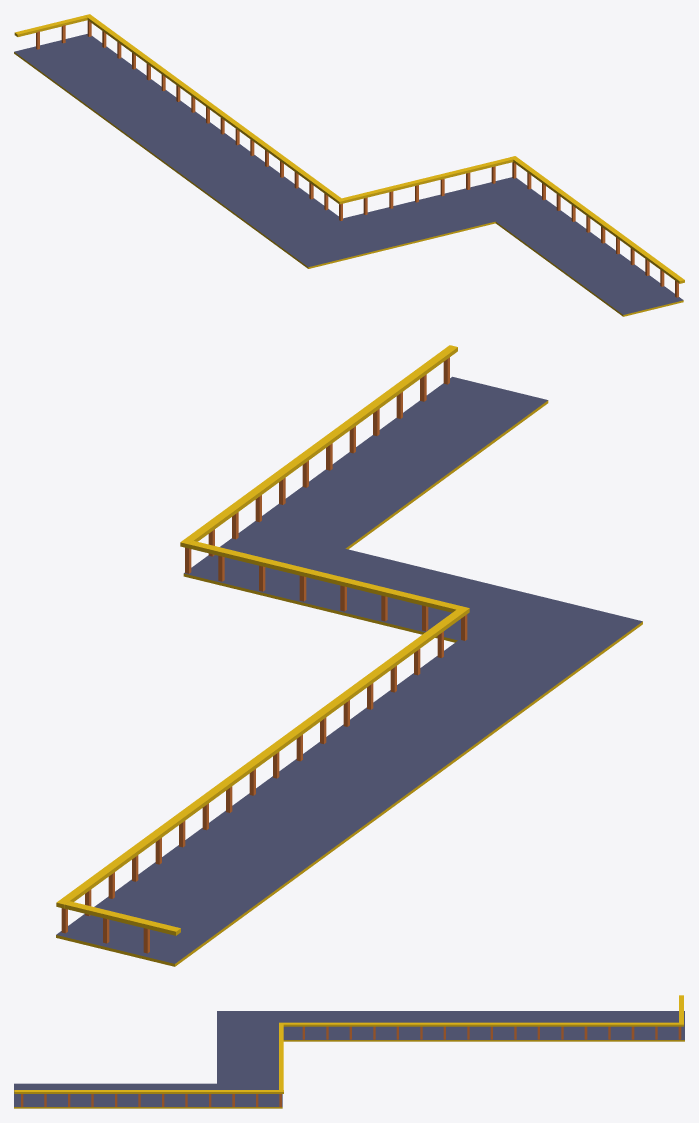
The model's file is gr_elevatedWalkway.fbx.
3 renders of one model, top to bottom at view 1: azimuth 30°, elevation 25°; view 2: azimuth 150°, elevation 25°; view 3: azimuth 270°, elevation 25°, orthographic. The views are drawn at different scales.
Parts seen in each view (by area): view 1: ElevatedWalkway; view 2: ElevatedWalkway; view 3: ElevatedWalkway.
Part boxes in pixels (left/top/right/bottom): ElevatedWalkway: left=14, top=14, right=684, bottom=316; ElevatedWalkway: left=56, top=345, right=642, bottom=966; ElevatedWalkway: left=14, top=995, right=684, bottom=1108.
Size of the model in its own units: 1390 by 115 by 4082.
